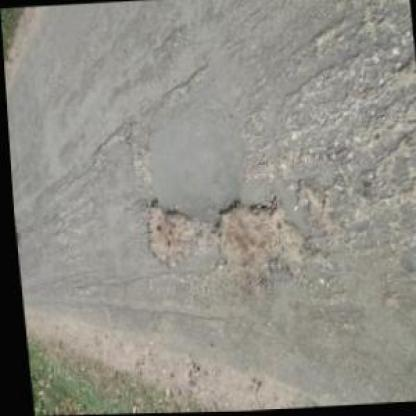pothole: (206, 192, 310, 292), (135, 193, 205, 273)
